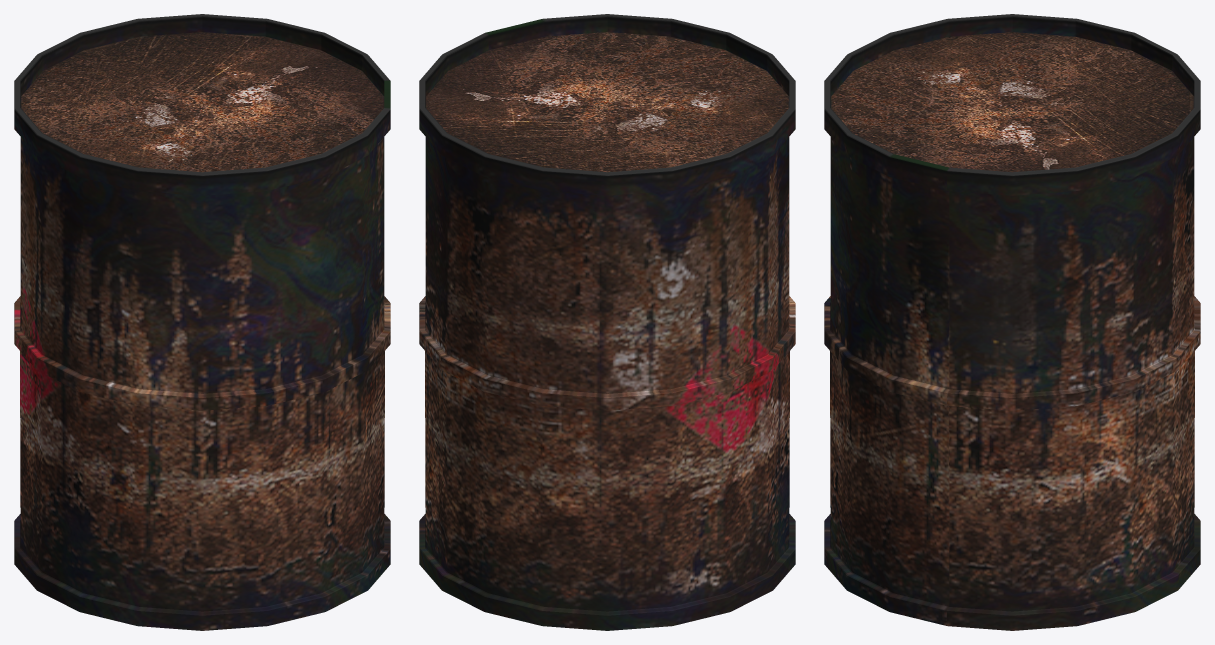
File: barrels-01.FBX
The picture shows the model from 3 angles, left to right: view 1: azimuth 30°, elevation 25°; view 2: azimuth 150°, elevation 25°; view 3: azimuth 270°, elevation 25°; orthographic projection.
Parts seen in each view (by area): view 1: Cylinder001; view 2: Cylinder001; view 3: Cylinder001.
Part boxes in pixels (x1,y1,x2,y2): Cylinder001: (14,14,390,630); Cylinder001: (419,14,795,630); Cylinder001: (824,14,1200,630).
Bounding box in the file's own units: 29.89 × 39.39 × 29.44.
Materials: 1 (1 with a texture image).
